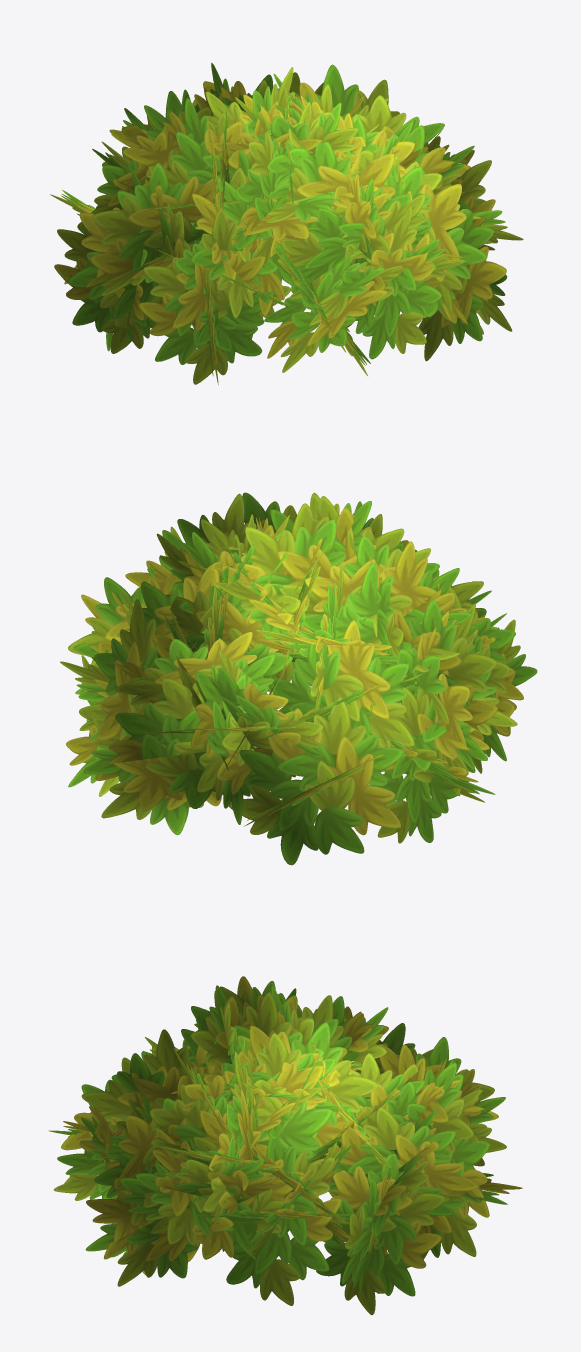
Rendered from FBX_Bush_Medium_02.fbx.
The picture shows the model from 3 angles, top to bottom: view 1: azimuth 30°, elevation 25°; view 2: azimuth 150°, elevation 25°; view 3: azimuth 270°, elevation 25°; orthographic projection. The views are drawn at different scales.
Visible parts, largest first — view 1: bushmedium01; view 2: bushmedium01; view 3: bushmedium01.
Boxes of the visible parts, bbox=[...] form: bushmedium01: bbox=[50, 62, 523, 384]; bushmedium01: bbox=[60, 492, 537, 865]; bushmedium01: bbox=[48, 976, 522, 1314].
Bounding box in the file's own units: 437 × 311 × 478.
